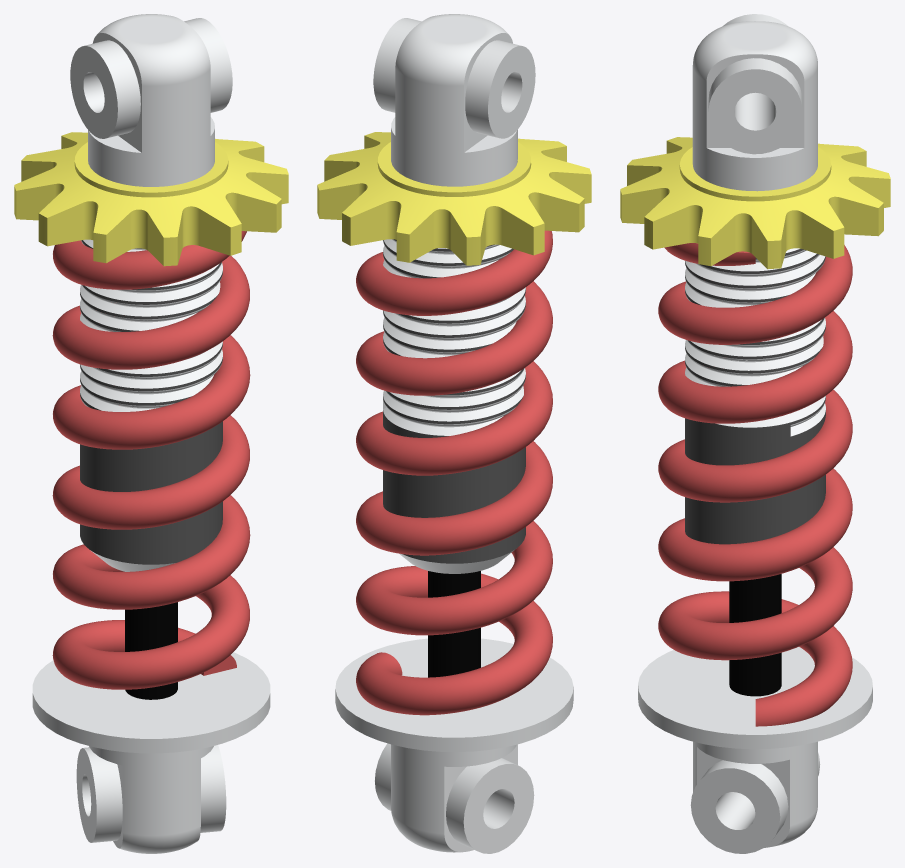
File: montage.glb
3 renders of one model, left to right at view 1: azimuth 30°, elevation 25°; view 2: azimuth 150°, elevation 25°; view 3: azimuth 270°, elevation 25°, orthographic.
Parts seen in each view (by area): view 1: 3.Spring-1, 2.Top rod-1, 1.Base-1, 4.nut-1; view 2: 3.Spring-1, 2.Top rod-1, 1.Base-1, 4.nut-1; view 3: 3.Spring-1, 2.Top rod-1, 1.Base-1, 4.nut-1.
Boxes of the visible parts, <box> form: 3.Spring-1: <box>52,231,250,689</box>; 2.Top rod-1: <box>70,14,232,571</box>; 1.Base-1: <box>32,602,270,853</box>; 4.nut-1: <box>14,132,288,266</box>; 3.Spring-1: <box>356,230,552,715</box>; 2.Top rod-1: <box>373,14,535,573</box>; 1.Base-1: <box>335,354,573,853</box>; 4.nut-1: <box>317,132,591,265</box>; 3.Spring-1: <box>658,243,852,726</box>; 2.Top rod-1: <box>685,14,825,544</box>; 1.Base-1: <box>638,360,872,853</box>; 4.nut-1: <box>620,137,890,269</box>.
Size of the model in its own units: 0.0518 by 0.168 by 0.0518.
